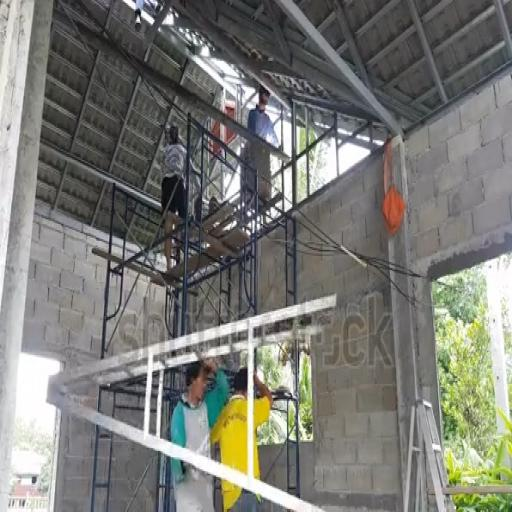head and helmet: (186, 362, 208, 402), (233, 368, 248, 396), (165, 122, 178, 144), (259, 86, 270, 109)
